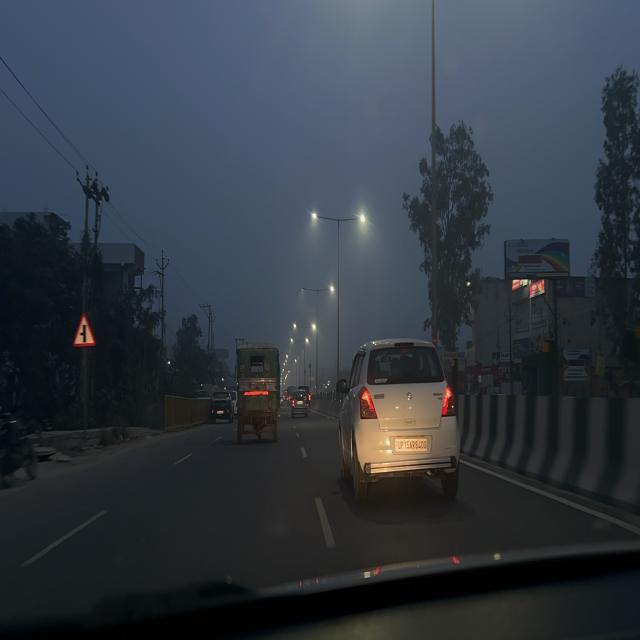SIDE_ROAD_LEFT: (72, 311, 96, 349)
